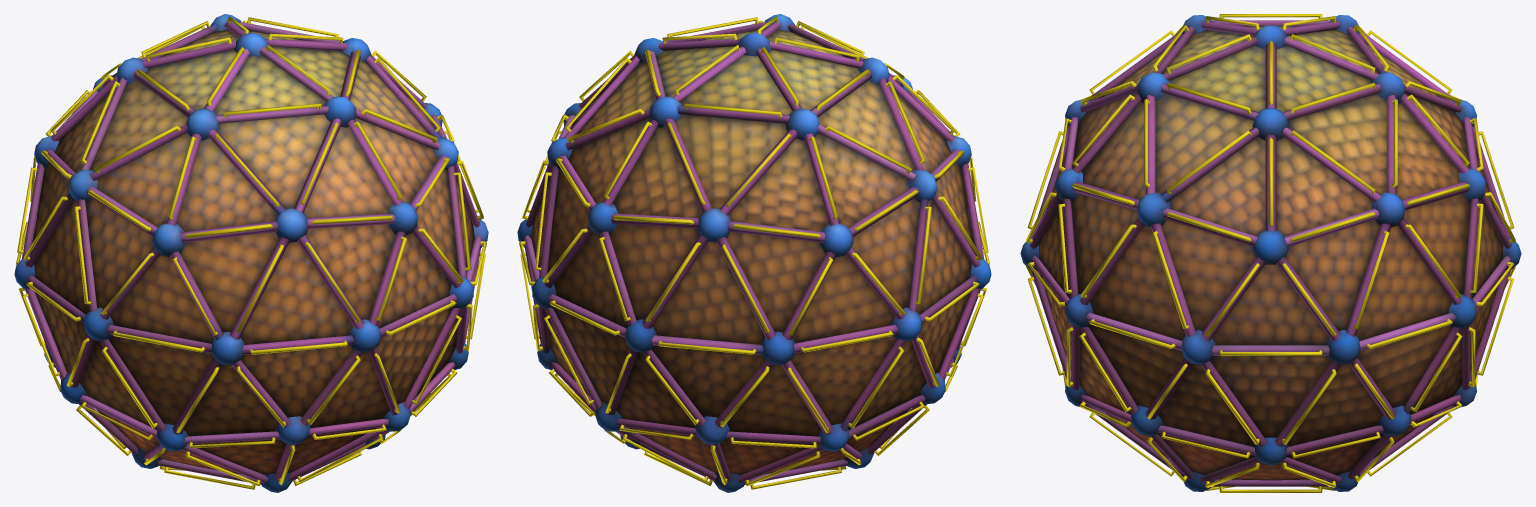
The model's file is BallConcept.fbx.
3 renders of one model, left to right at view 1: azimuth 30°, elevation 25°; view 2: azimuth 150°, elevation 25°; view 3: azimuth 270°, elevation 25°, orthographic. The views are drawn at different scales.
Visible parts, largest first — view 1: Inflated.001, FrameSolid, Bars.001, Geonodes; view 2: Inflated.001, FrameSolid, Bars.001, Geonodes; view 3: Inflated.001, FrameSolid, Bars.001, Geonodes.
Boxes of the visible parts, x1=… form: Inflated.001: x1=30, y1=29, x2=474, y2=474; FrameSolid: x1=22, y1=21, x2=481, y2=484; Bars.001: x1=16, y1=16, x2=486, y2=489; Geonodes: x1=14, y1=14, x2=488, y2=492; Inflated.001: x1=531, y1=29, x2=975, y2=474; FrameSolid: x1=524, y1=21, x2=983, y2=484; Bars.001: x1=519, y1=16, x2=989, y2=489; Geonodes: x1=517, y1=14, x2=991, y2=492; Inflated.001: x1=1039, y1=26, x2=1502, y2=480; FrameSolid: x1=1030, y1=20, x2=1511, y2=486; Bars.001: x1=1026, y1=14, x2=1515, y2=492; Geonodes: x1=1020, y1=15, x2=1521, y2=491.
Size of the model in its own units: 10.34 by 10.81 by 10.81.
